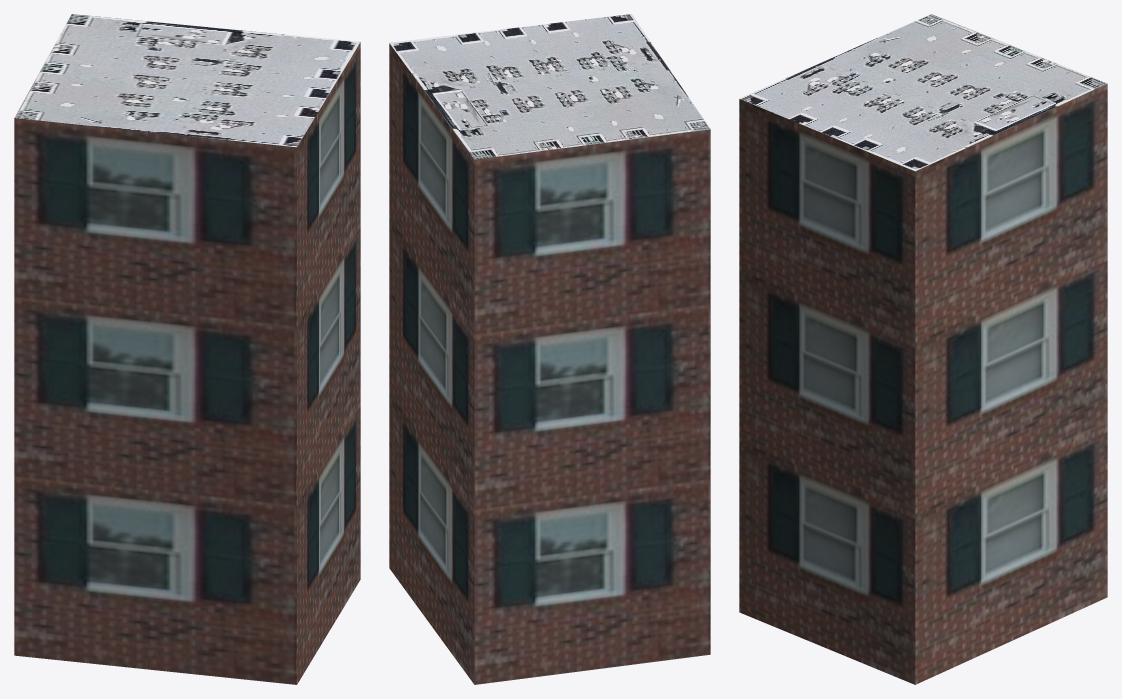
Rendered from ResTex__4139.fbx.
The picture shows the model from 3 angles, left to right: view 1: azimuth 30°, elevation 25°; view 2: azimuth 150°, elevation 25°; view 3: azimuth 270°, elevation 25°; orthographic projection. The views are drawn at different scales.
Visible parts, largest first — view 1: CityEngineMaterial_14_m, CityEngineMaterial_m; view 2: CityEngineMaterial_14_m, CityEngineMaterial_m; view 3: CityEngineMaterial_14_m, CityEngineMaterial_m.
Part boxes in pixels (left/top/right/bottom): CityEngineMaterial_14_m: left=14, top=42, right=360, bottom=684; CityEngineMaterial_m: left=14, top=14, right=360, bottom=147; CityEngineMaterial_14_m: left=389, top=43, right=710, bottom=684; CityEngineMaterial_m: left=389, top=14, right=710, bottom=159; CityEngineMaterial_14_m: left=739, top=84, right=1107, bottom=684; CityEngineMaterial_m: left=739, top=14, right=1107, bottom=171.
Size of the model in its own units: 5.92 by 9 by 5.85.
Materials: 2 (2 with a texture image).
